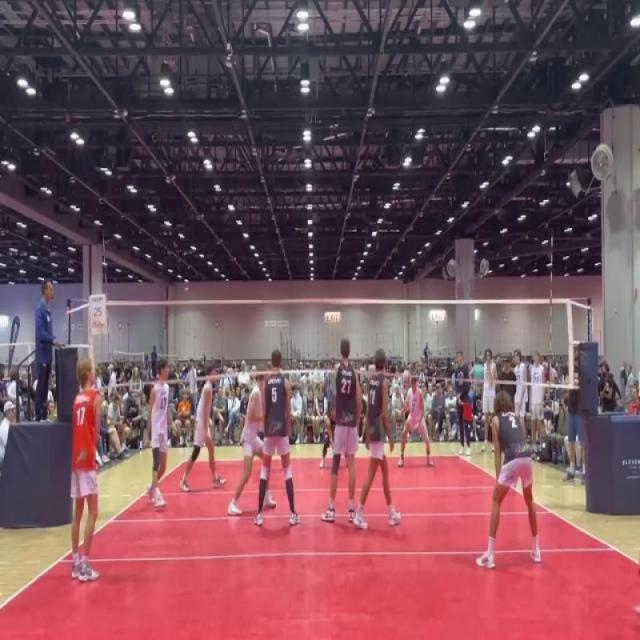volleyball: (400, 368, 412, 393)
